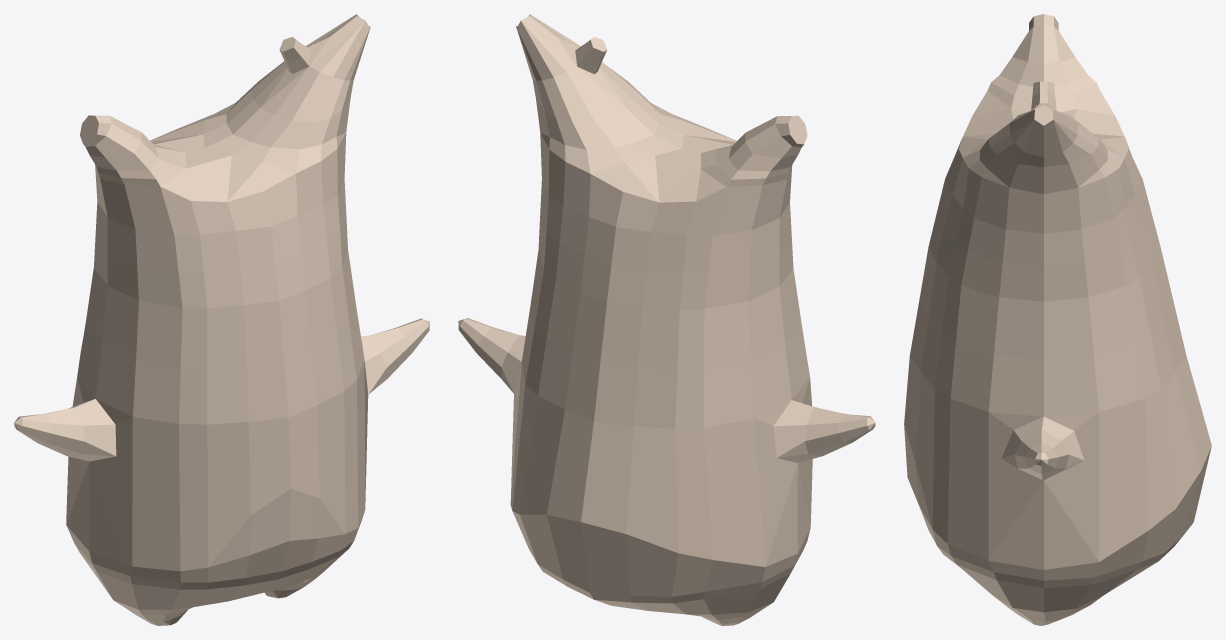
Rendered from frame_0040.obj.
3 views of the same model, side by side, from view 1: azimuth 30°, elevation 25°; view 2: azimuth 150°, elevation 25°; view 3: azimuth 270°, elevation 25° (orthographic).
Parts seen in each view (by area): view 1: korok; view 2: korok; view 3: korok.
Boxes of the visible parts, x1=… form: korok: x1=14, y1=14, x2=429, y2=625; korok: x1=458, y1=14, x2=875, y2=625; korok: x1=904, y1=14, x2=1211, y2=625.
Size of the model in its own units: 1.65 by 2.13 by 1.07.
